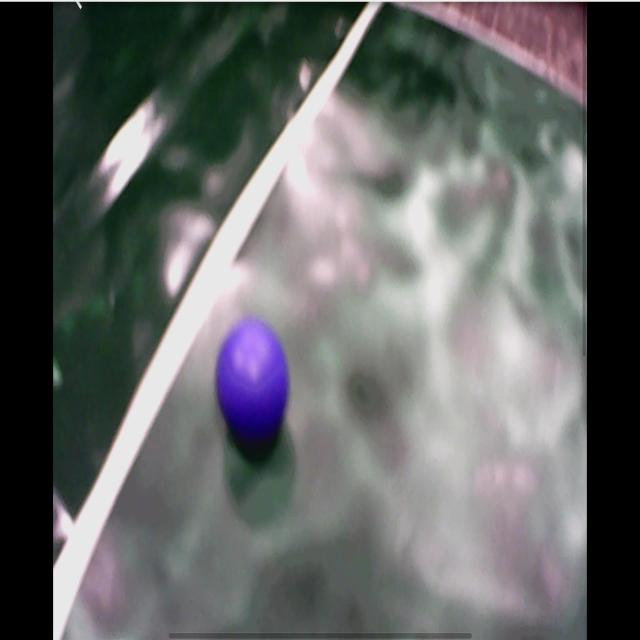ball: (216, 319, 293, 438)
